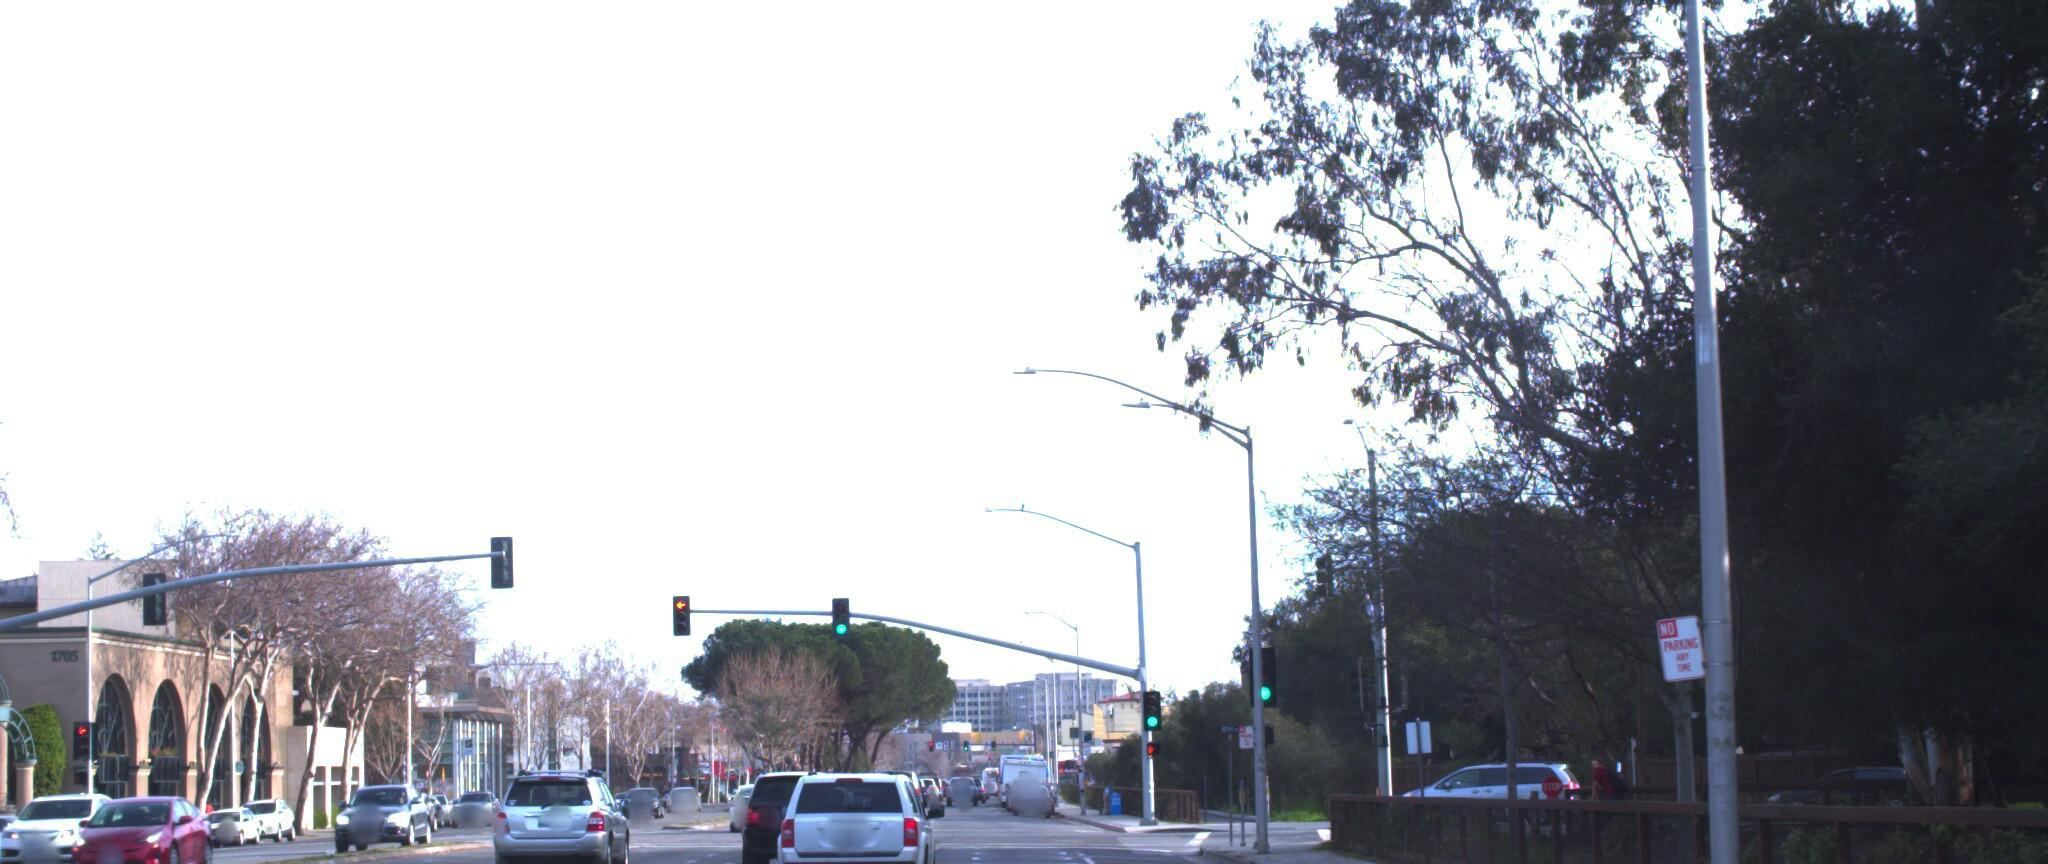bicycle: (1556, 744, 1640, 854)
car: (752, 750, 933, 864), (477, 760, 633, 864), (44, 784, 221, 864), (734, 767, 856, 864), (327, 780, 436, 851)
